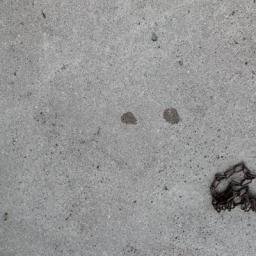FOD: (206, 158, 256, 224)
